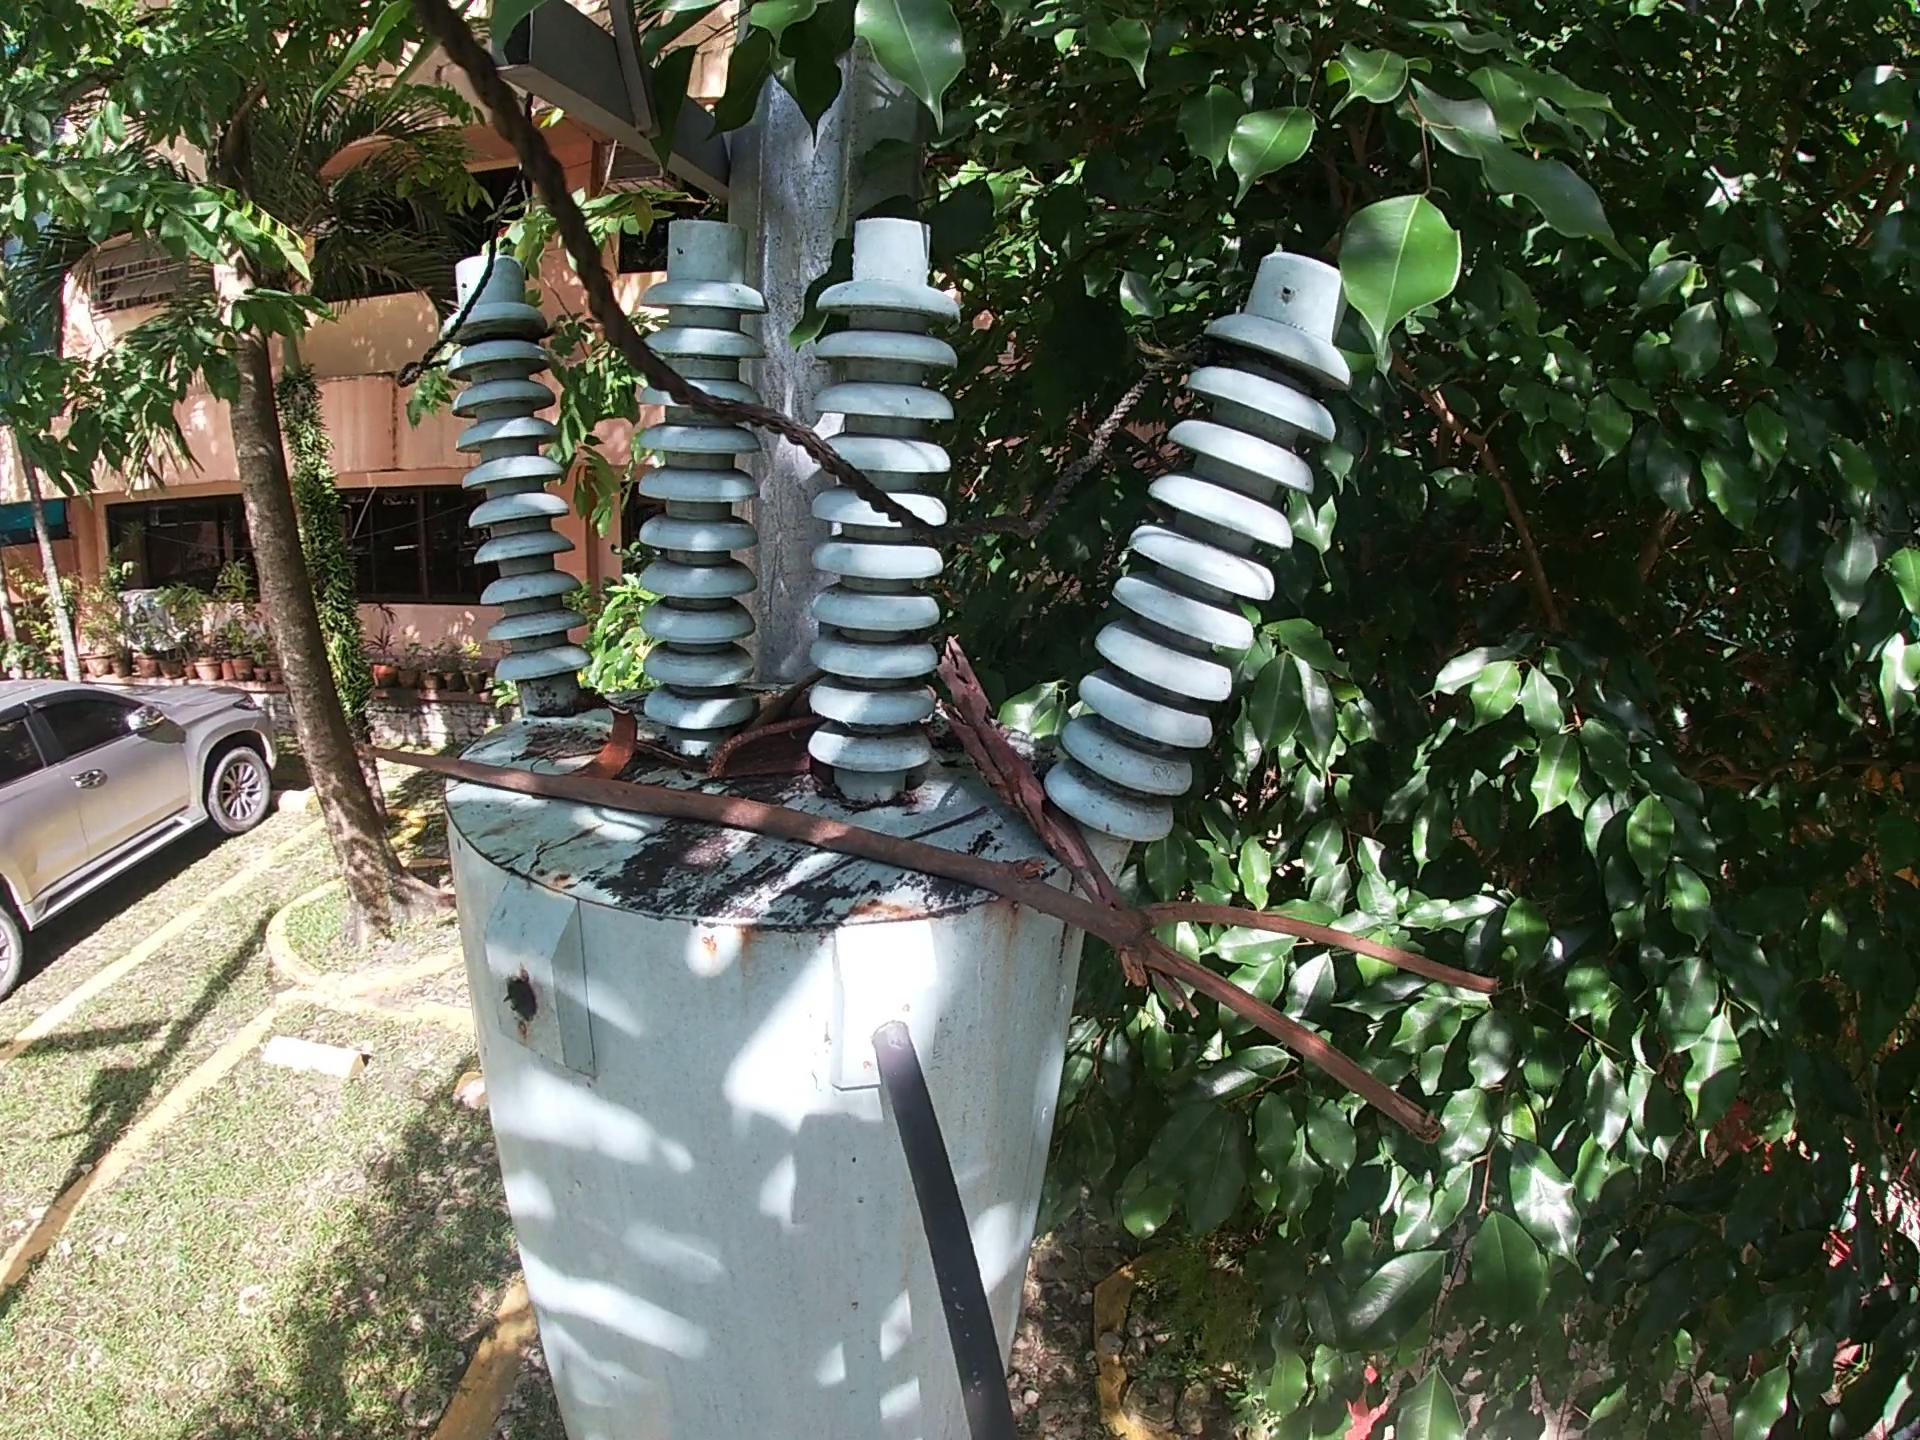mahogany fruit: (711, 720, 815, 796), (582, 706, 644, 774)
tree branch: (345, 737, 1554, 1171), (934, 631, 1209, 1026), (900, 790, 992, 833), (765, 856, 856, 900), (751, 666, 819, 722), (528, 737, 602, 773), (641, 737, 705, 768)
